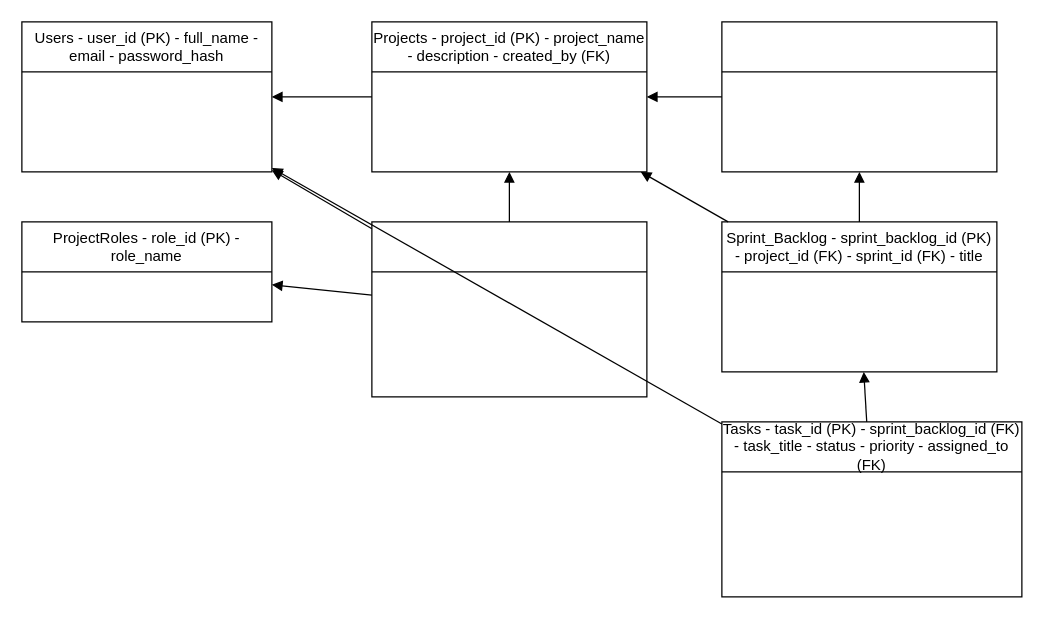
The diagram is 1044 pixels wide and 619 high, and some of its shapes have lost their labels. Each missing label, with the box of its shape:
Sprints - sprint_id (PK) - project_id (FK) - name - start_date - end_date: (721, 21, 997, 172)
User_Project - id (PK) - user_id (FK) - project_id (FK) - role_id (FK) - status: (371, 221, 647, 397)
